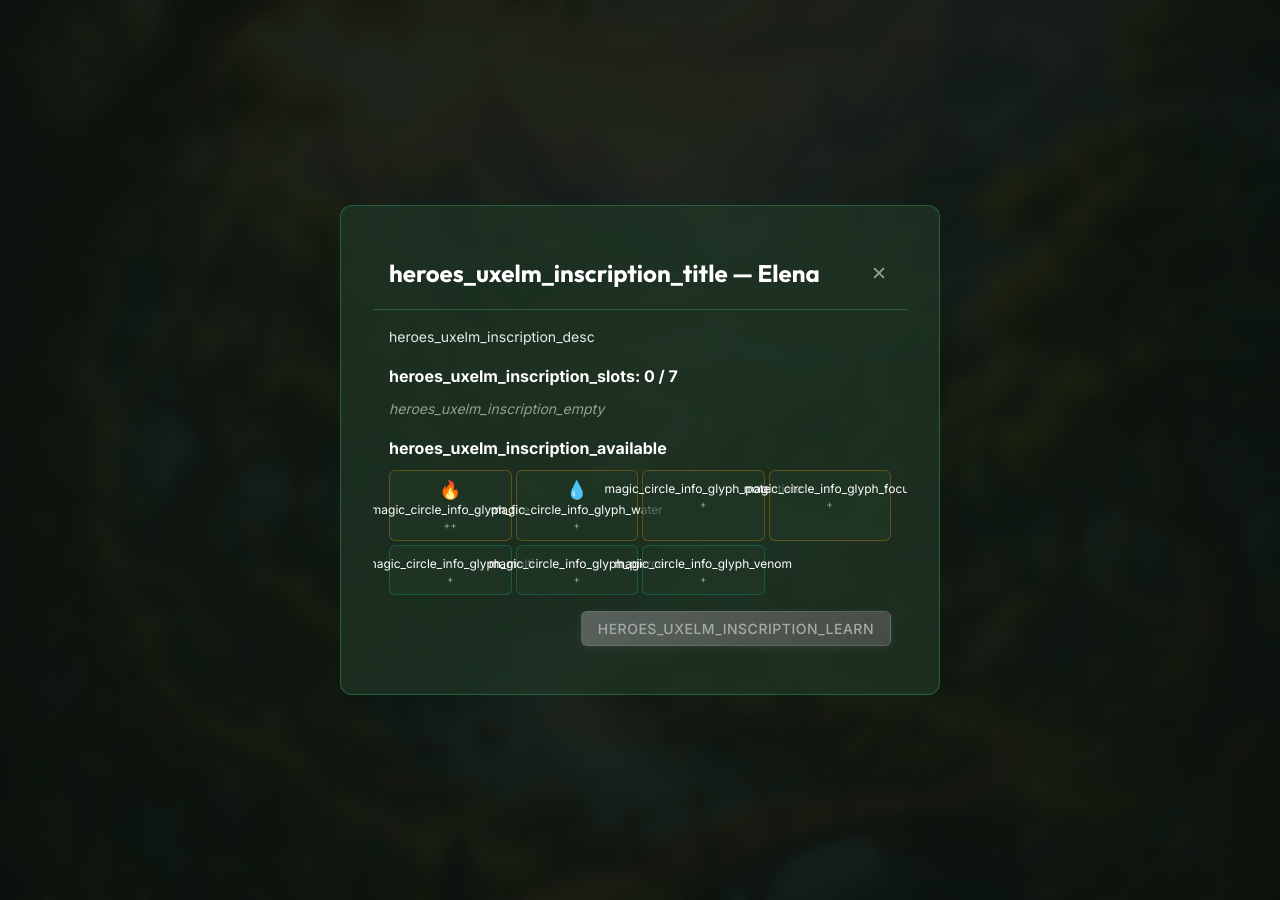
HeroInscriptionModal › removes glyphs when chip clicked
This screenshot has width=1280, height=900.
Click the button with class "glyph-option" that starts with "magic_circle_info_glyph_fire" at (450, 505), box [389, 470, 512, 541]
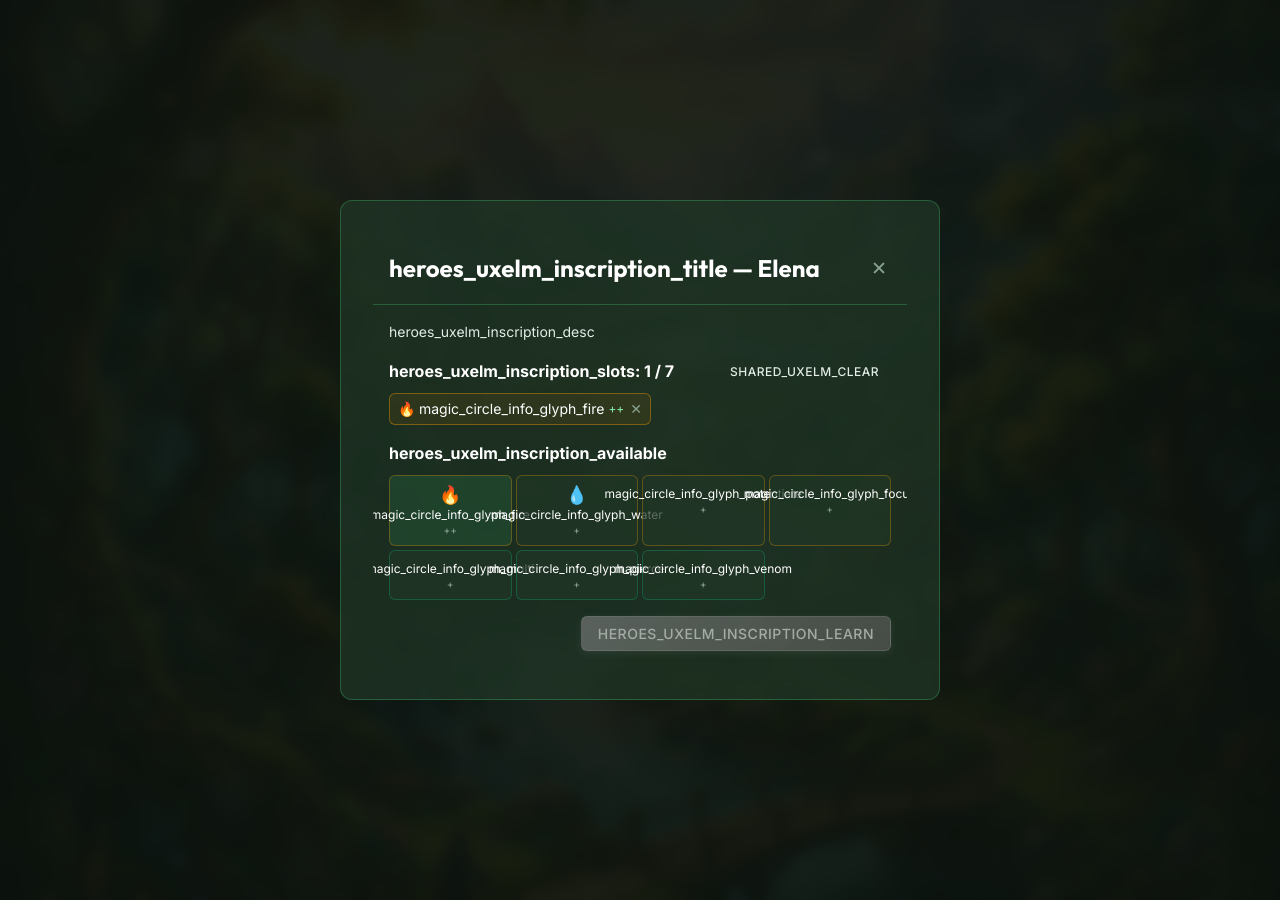
Click the button with class "glyph-option" that starts with "magic_circle_info_glyph_water" at (577, 510), box [516, 475, 638, 546]
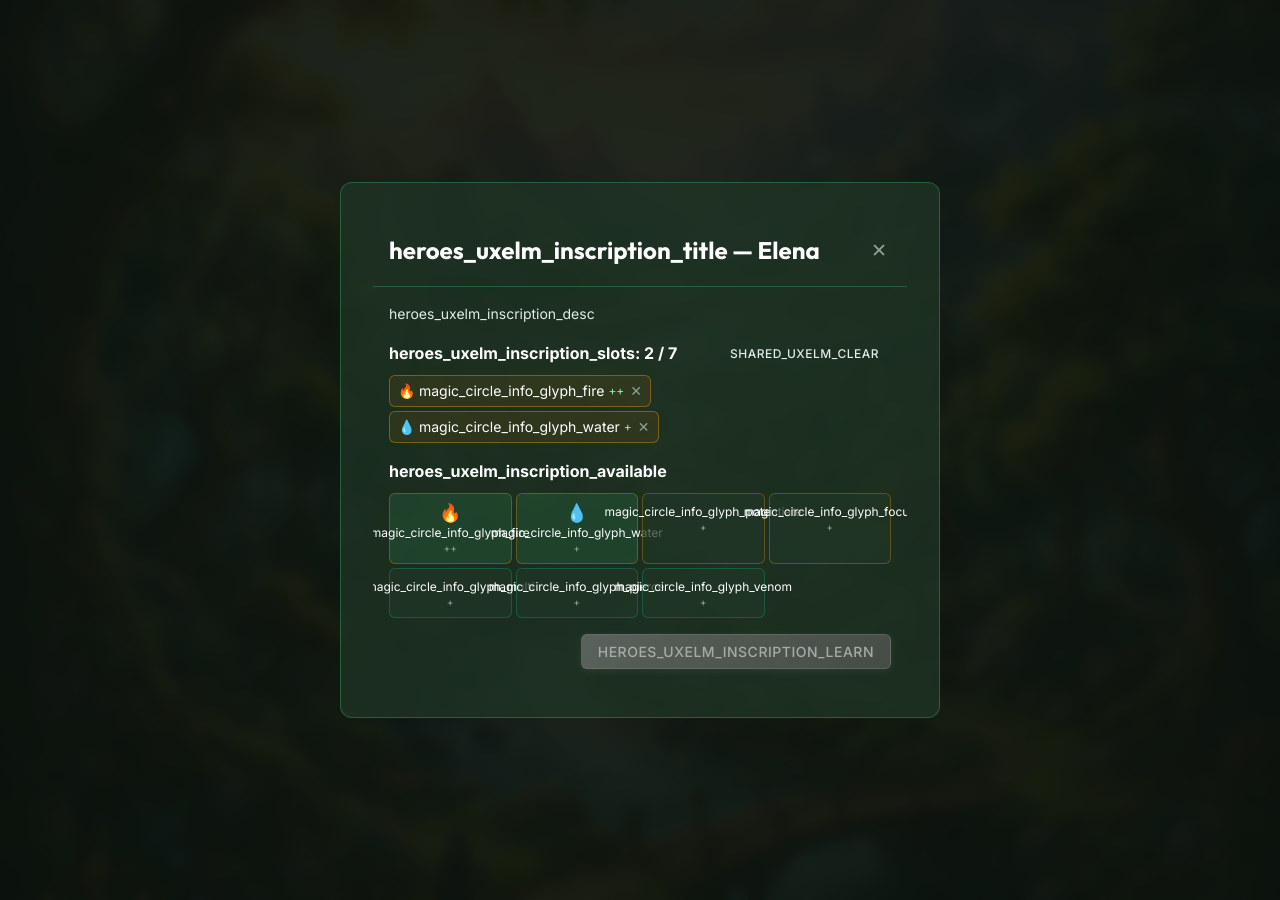
Expected: the number of elements with class "glyph-chip" is 2
Click the element with class "glyph-chip" that starts with "🔥 magic_circle_info_glyph_fire" at (520, 391), box [389, 374, 651, 407]
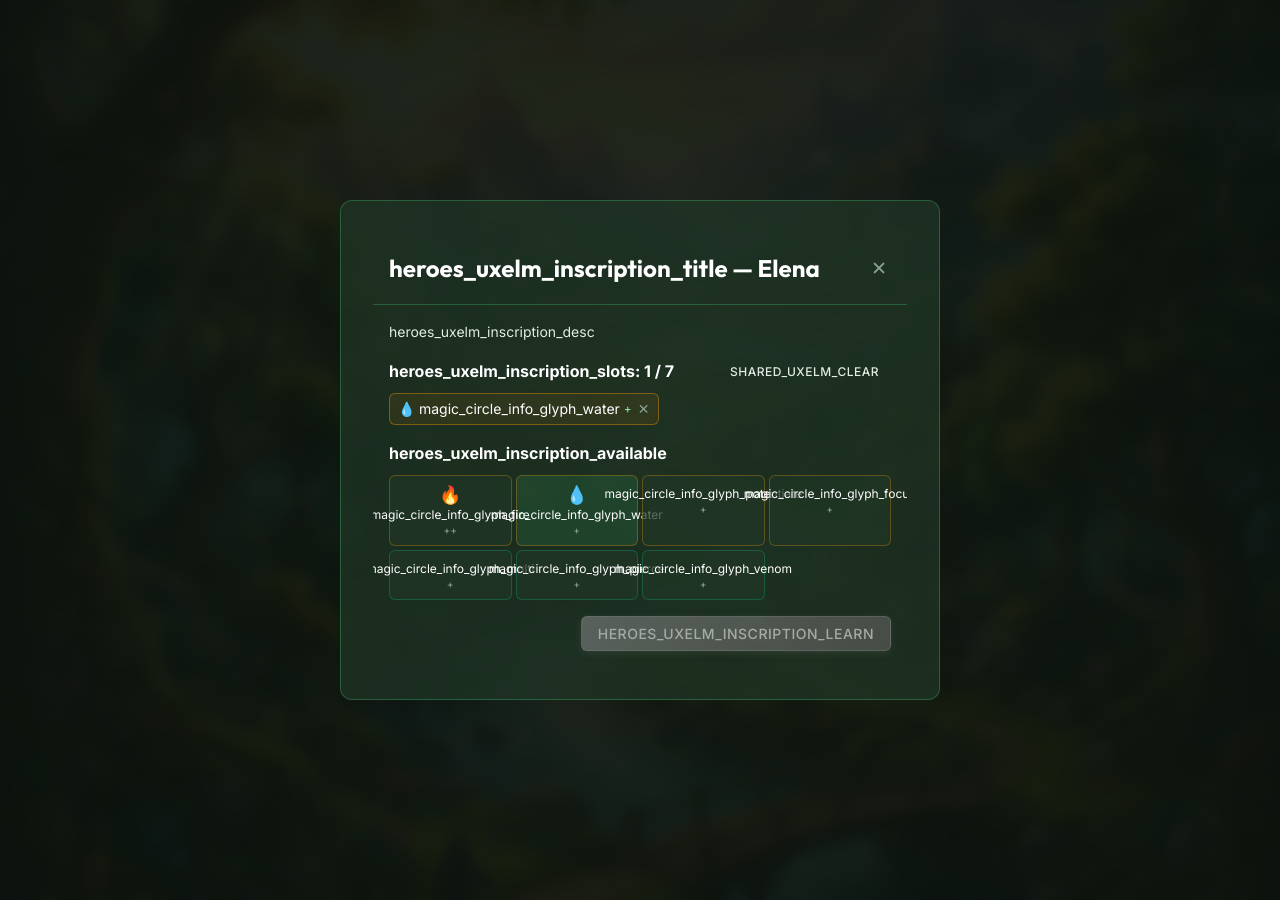
Expected: the number of elements with class "glyph-chip" is 1, [389, 393, 658, 425]
